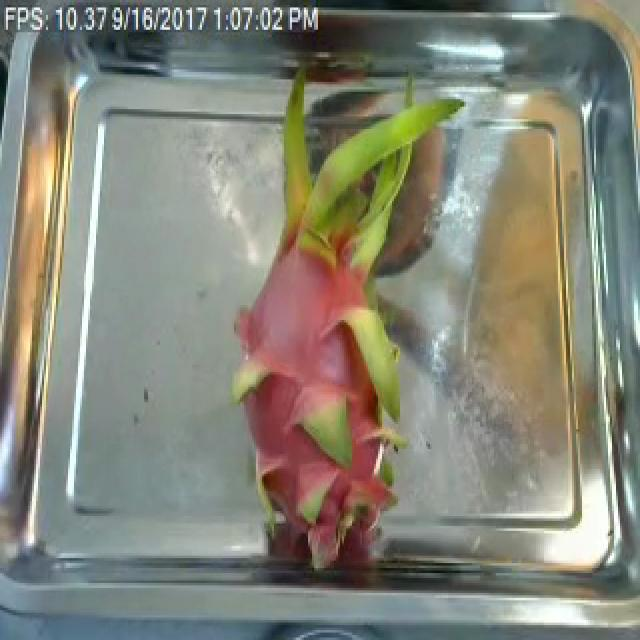fruit: (218, 102, 454, 553)
